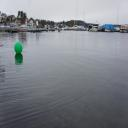green: (14, 41, 23, 54)
